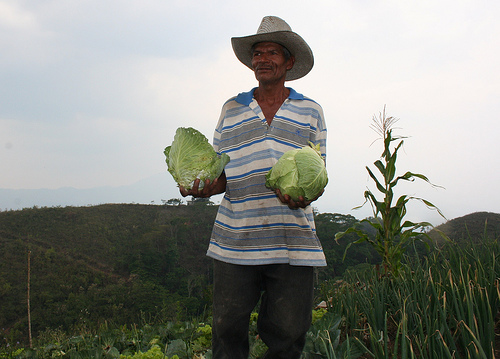cabbage: (161, 125, 233, 197), (263, 144, 326, 206)
